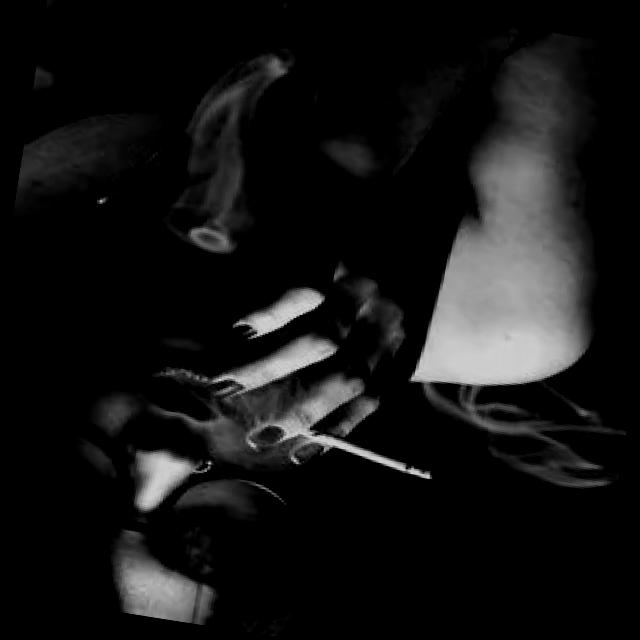cigarette: (270, 410, 452, 490)
